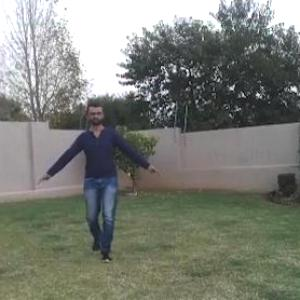land: (25, 88, 167, 276)
